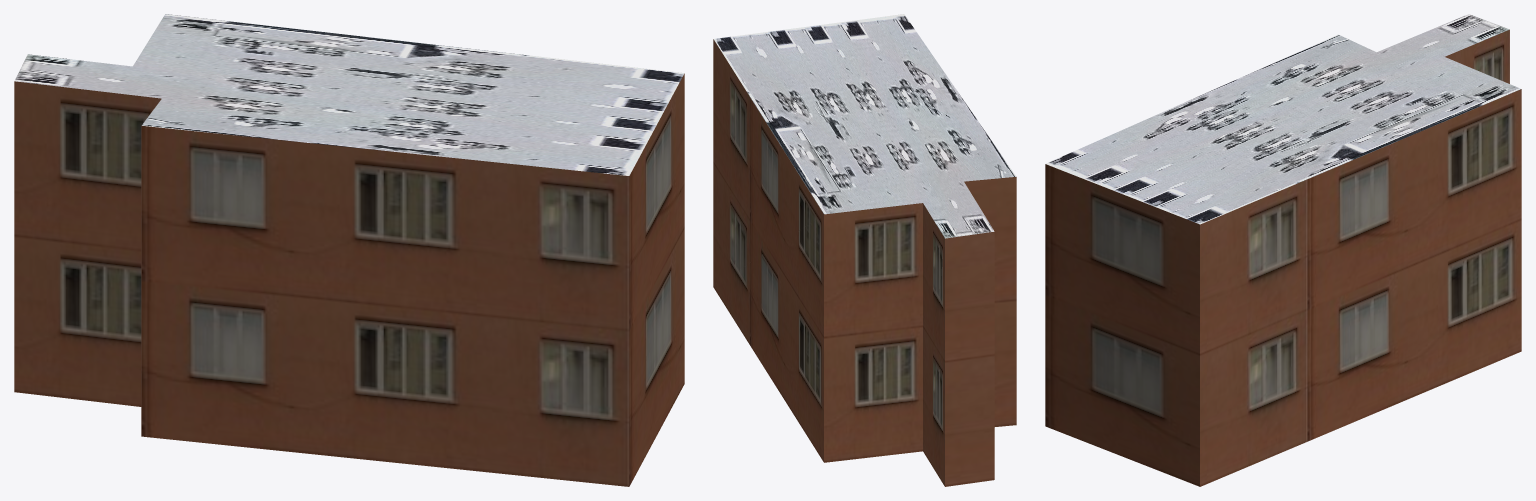
File: ResTex__4169.fbx
The picture shows the model from 3 angles, left to right: view 1: azimuth 30°, elevation 25°; view 2: azimuth 150°, elevation 25°; view 3: azimuth 270°, elevation 25°; orthographic projection. The views are drawn at different scales.
Parts seen in each view (by area): view 1: CityEngineMaterial_20_m, CityEngineMaterial_8_m; view 2: CityEngineMaterial_20_m, CityEngineMaterial_8_m; view 3: CityEngineMaterial_20_m, CityEngineMaterial_8_m.
Boxes of the visible parts, box(x1,y1,x2,y2) form: CityEngineMaterial_20_m: box(14, 73, 684, 486); CityEngineMaterial_8_m: box(14, 14, 684, 175); CityEngineMaterial_20_m: box(713, 39, 1016, 486); CityEngineMaterial_8_m: box(713, 14, 1016, 238); CityEngineMaterial_20_m: box(1045, 29, 1521, 486); CityEngineMaterial_8_m: box(1046, 14, 1520, 224).
Bounding box in the file's own units: 10.33 × 6 × 9.87.
2 materials, 2 textured.
